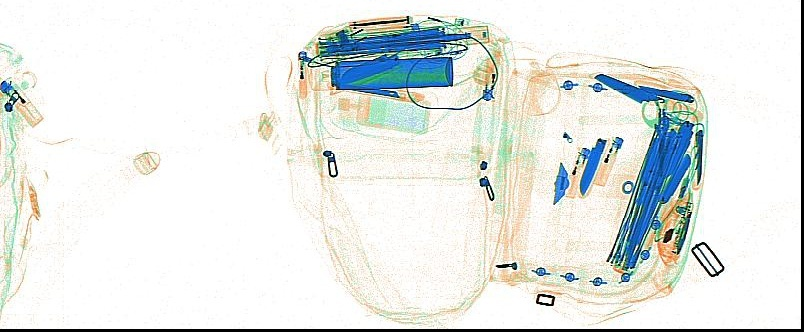knife: (592, 73, 702, 123), (327, 80, 422, 103), (339, 52, 399, 86), (576, 135, 608, 196), (655, 150, 691, 202), (633, 79, 695, 102), (349, 15, 411, 31), (691, 123, 704, 190)
lighter: (1, 76, 43, 126), (590, 135, 622, 184), (561, 146, 591, 198), (296, 49, 309, 99)
pressure: (329, 55, 453, 92)
scissors: (638, 94, 677, 178)
